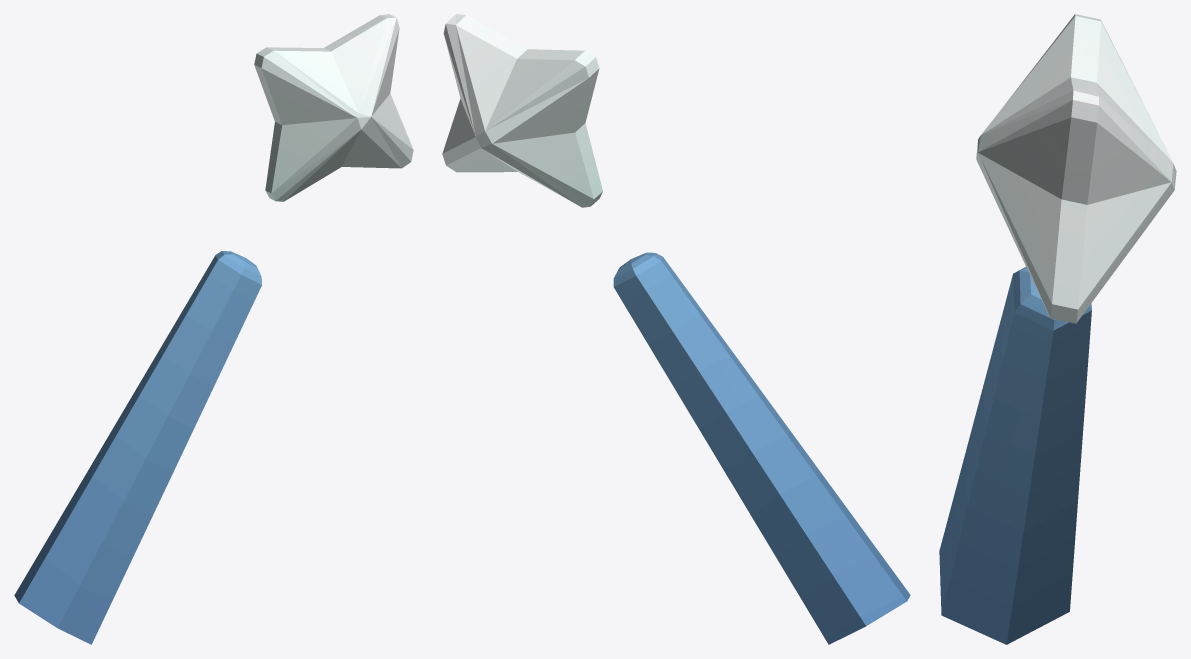
Rendered from CharSkyKid_Hat_PersonalityJStraight.glb.
3 views of the same model, side by side, from view 1: azimuth 30°, elevation 25°; view 2: azimuth 150°, elevation 25°; view 3: azimuth 270°, elevation 25° (orthographic). The views are drawn at different scales.
Parts seen in each view (by area): view 1: CharSkyKid_Hat_PersonalityJStraight; view 2: CharSkyKid_Hat_PersonalityJStraight; view 3: CharSkyKid_Hat_PersonalityJStraight.
Part boxes in pixels (box(x1,y1,x2,y2)): CharSkyKid_Hat_PersonalityJStraight: box(14, 14, 413, 644); CharSkyKid_Hat_PersonalityJStraight: box(442, 14, 910, 644); CharSkyKid_Hat_PersonalityJStraight: box(939, 14, 1176, 644).
Size of the model in its own units: 1.5 by 1.82 by 0.4951.
1 material, 1 textured.
